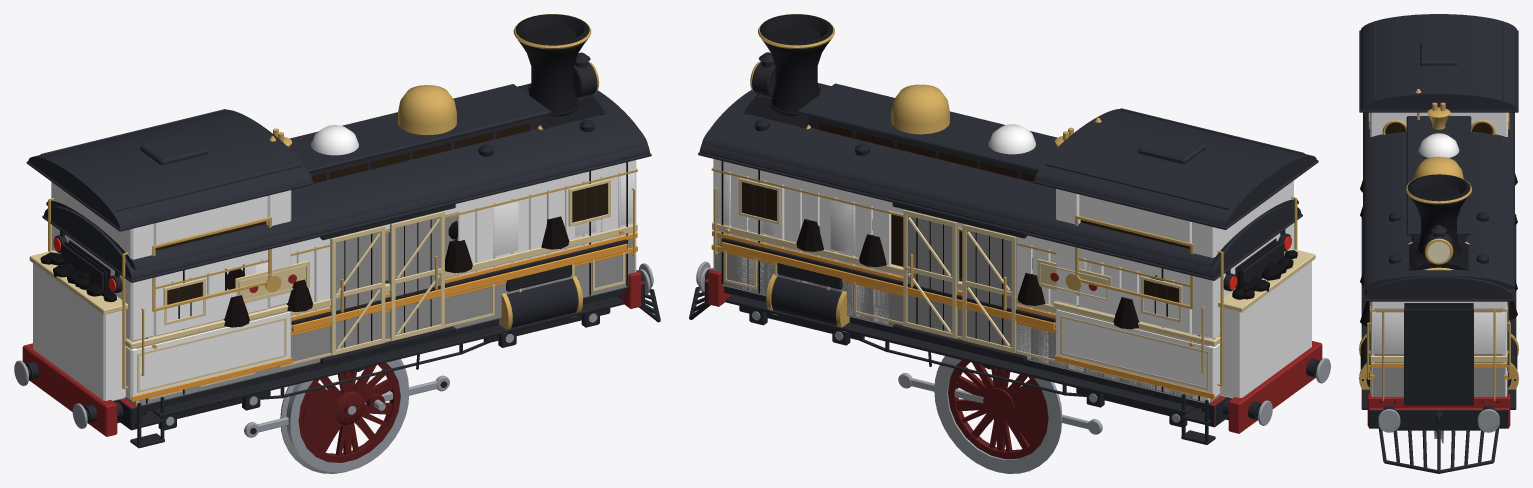
File: train.glb
The picture shows the model from 3 angles, left to right: view 1: azimuth 30°, elevation 25°; view 2: azimuth 150°, elevation 25°; view 3: azimuth 270°, elevation 25°; orthographic projection. The views are drawn at different scales.
Parts seen in each view (by area): view 1: Loco, Van, Coach, WheelDriver, WheelSmall, CouplingRod; view 2: Loco, Van, Coach, WheelDriver, WheelSmall, CouplingRod; view 3: Loco, Coach, Van.
Part boxes in pixels (<box>): Loco: <box>14,14,660,448</box>; Van: <box>46,83,647,429</box>; Coach: <box>42,84,651,430</box>; WheelDriver: <box>280,359,409,473</box>; WheelSmall: <box>282,360,408,473</box>; CouplingRod: <box>244,375,449,437</box>; Loco: <box>689,14,1330,444</box>; Van: <box>702,83,1298,427</box>; Coach: <box>698,83,1302,427</box>; WheelDriver: <box>934,356,1062,473</box>; WheelSmall: <box>934,356,1060,472</box>; CouplingRod: <box>898,373,1102,434</box>; Loco: <box>1359,14,1518,473</box>; Coach: <box>1360,116,1517,432</box>; Van: <box>1363,112,1514,428</box>.
Bounding box in the file's own units: 10.14 × 6.34 × 2.73.
